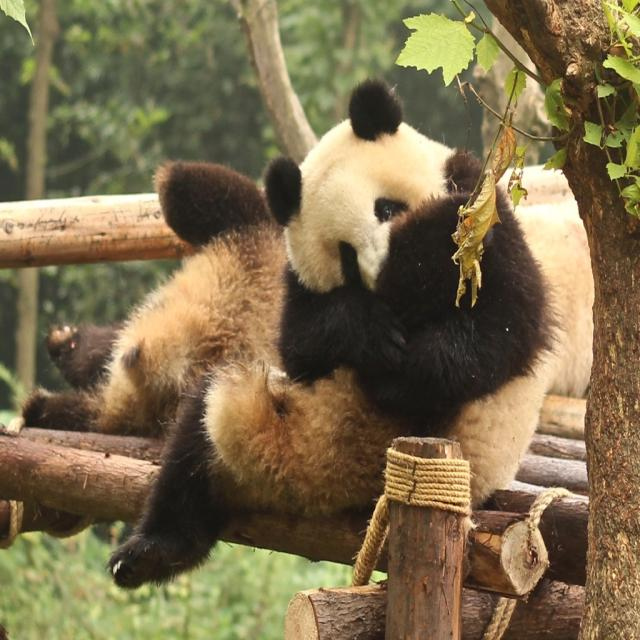panda: (279, 74, 594, 511)
